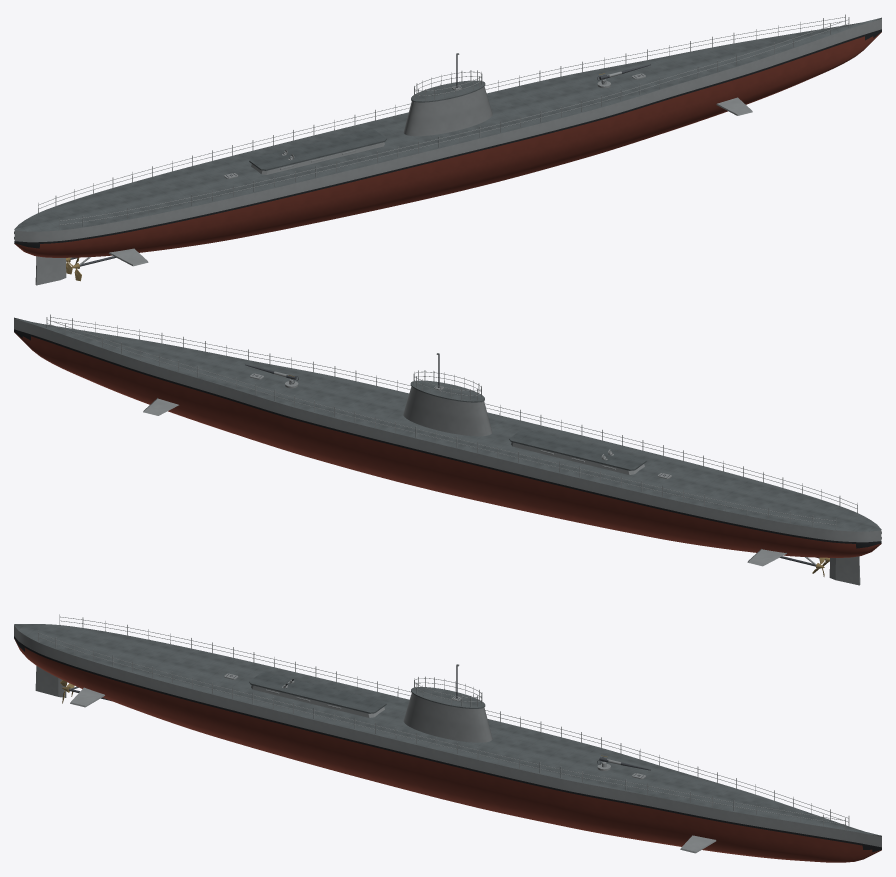
The model's file is fallback-sm.glb.
3 views of the same model, one above another, from view 1: azimuth 30°, elevation 25°; view 2: azimuth 150°, elevation 25°; view 3: azimuth 330°, elevation 25° (orthographic).
Visible parts, largest first — view 1: Original SM custom-design concept; view 2: Original SM custom-design concept; view 3: Original SM custom-design concept.
Boxes of the visible parts, box(x1,y1,x2,y2) form: Original SM custom-design concept: box(14, 14, 881, 285); Original SM custom-design concept: box(14, 314, 881, 585); Original SM custom-design concept: box(14, 614, 881, 862).
Size of the model in its own units: 84 by 12.33 by 10.59.
Materials: 7 (7 with a texture image).
